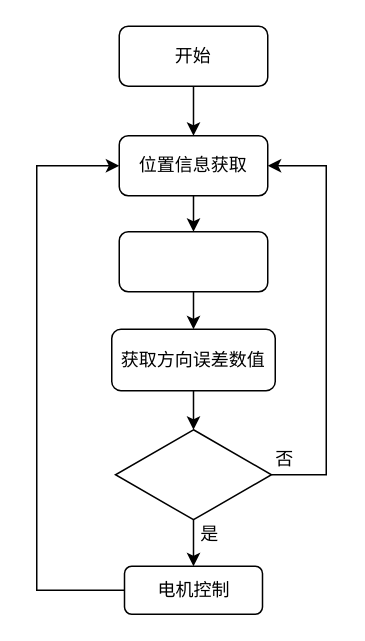
Image size: 365x641. Some labels were removed from this diagram. Each missing label, with the centre of its shape:
"E'(k) > K" belongs at (193,474).
"位置误差计算" belongs at (193,261).
